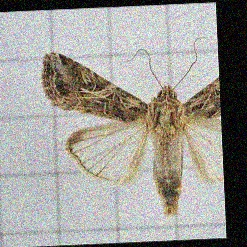Spodoptera litura: (41, 40, 222, 218)
